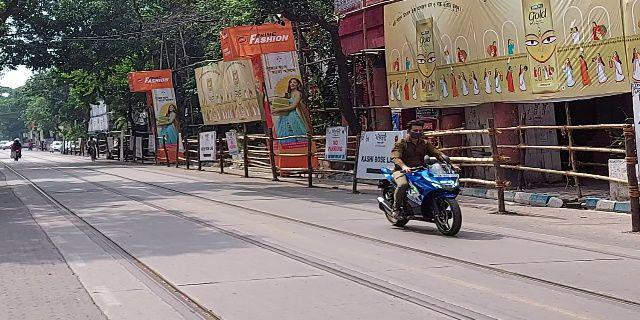Motorbike: (370, 123, 467, 237)
